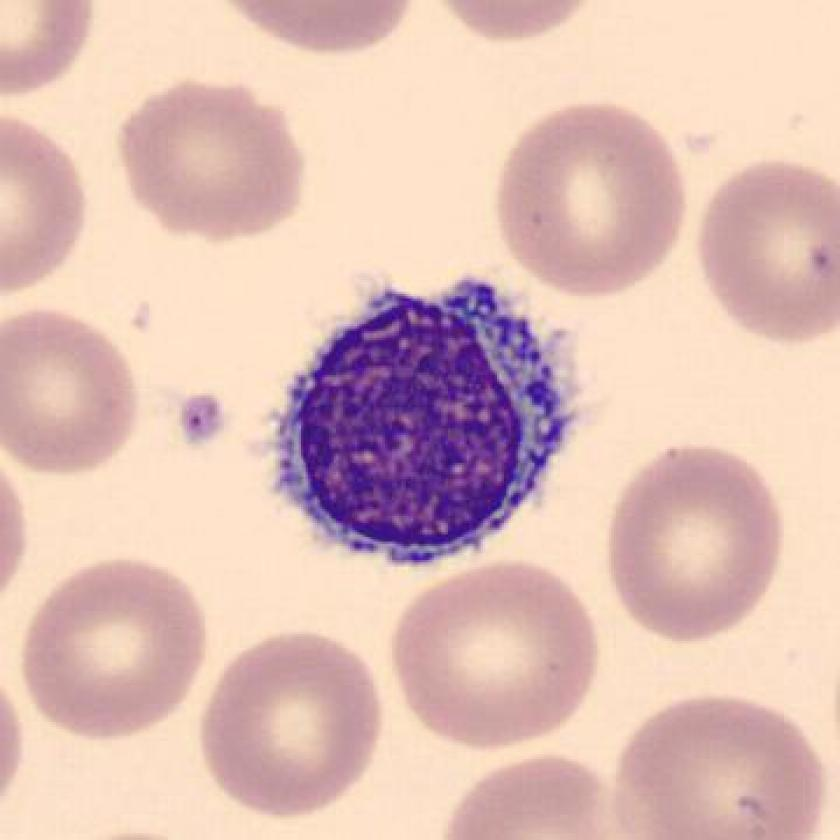lymphocyte: (246, 258, 601, 593)
platelets: (172, 385, 229, 457)
